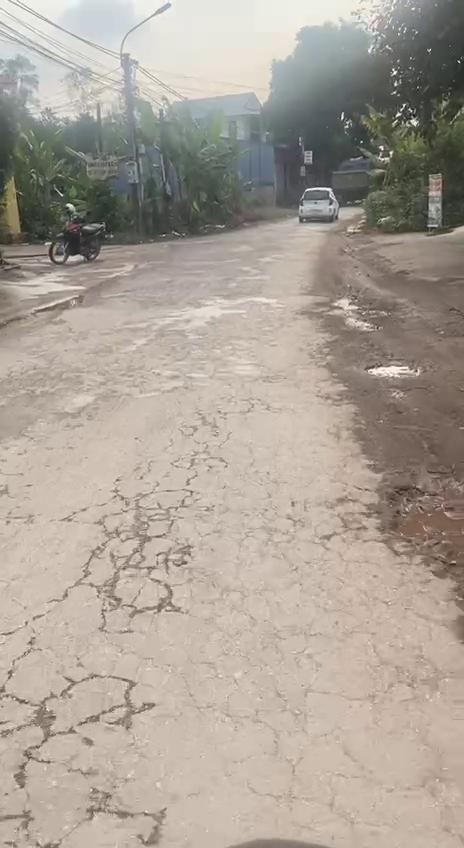pothole: (0, 668, 160, 783), (74, 498, 208, 614), (378, 476, 464, 606), (334, 295, 396, 332), (31, 294, 86, 317), (365, 360, 420, 379)
